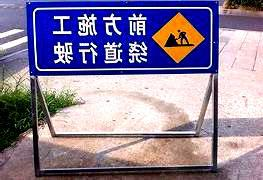sign: (31, 4, 214, 71)
